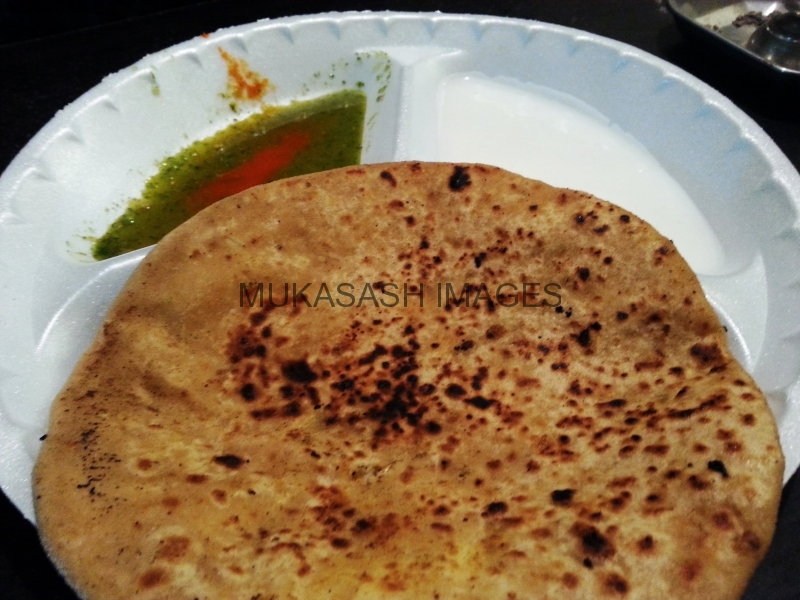aloo_paratha: (30, 164, 775, 600)
